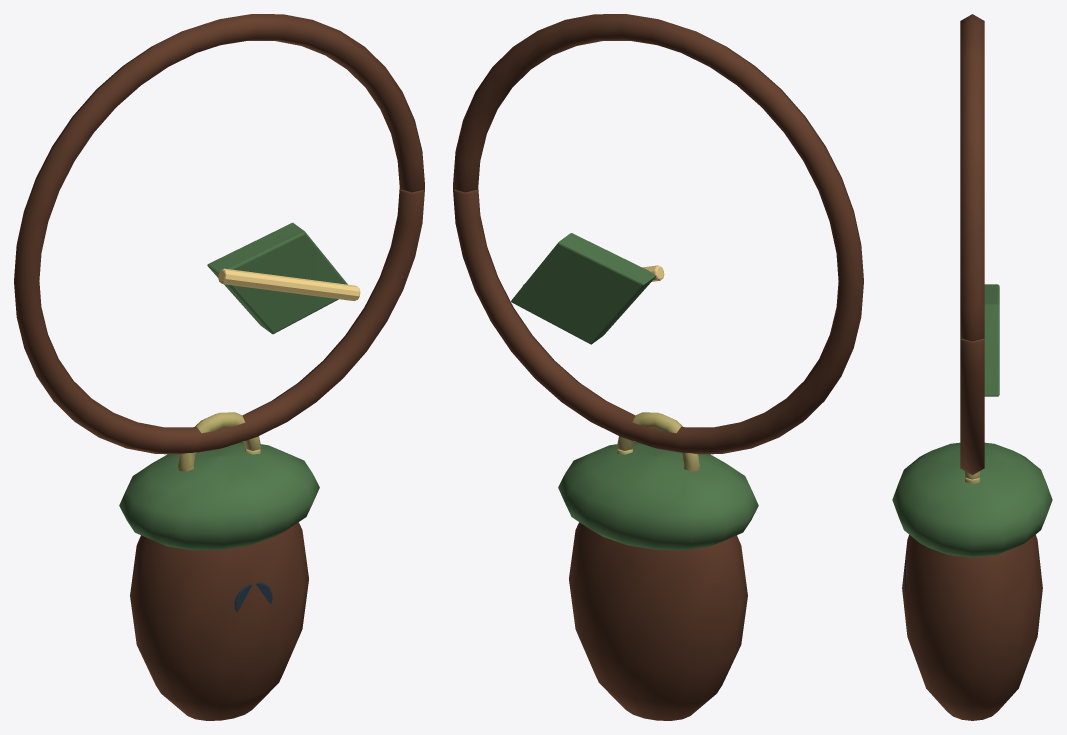
The model's file is item_082.glb.
3 views of the same model, side by side, from view 1: azimuth 30°, elevation 25°; view 2: azimuth 150°, elevation 25°; view 3: azimuth 270°, elevation 25° (orthographic). The views are drawn at different scales.
Parts seen in each view (by area): view 1: Item_082_acorn_whistle; view 2: Item_082_acorn_whistle; view 3: Item_082_acorn_whistle.
Boxes of the visible parts, x1,y1,x2,y2 form: Item_082_acorn_whistle: [14, 14, 424, 720]; Item_082_acorn_whistle: [453, 14, 863, 720]; Item_082_acorn_whistle: [892, 14, 1052, 720].
Bounding box in the file's own units: 0.4259 × 0.693 × 0.148.
